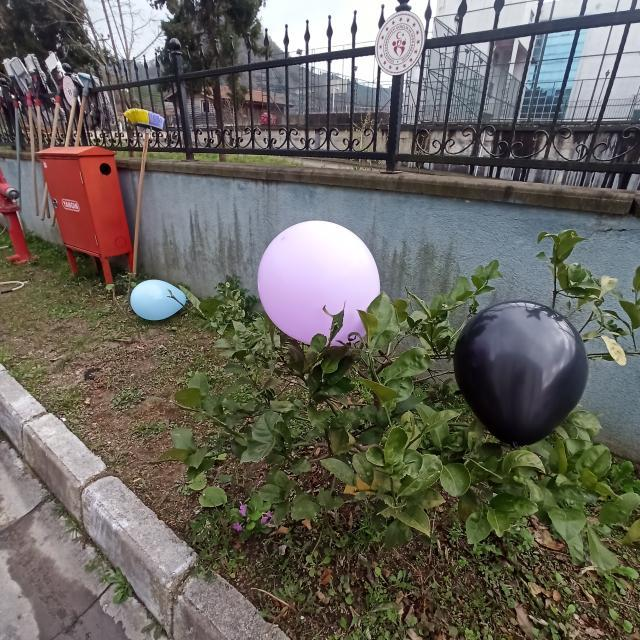balloon: (456, 303, 590, 448), (258, 220, 381, 350), (130, 278, 187, 324)
